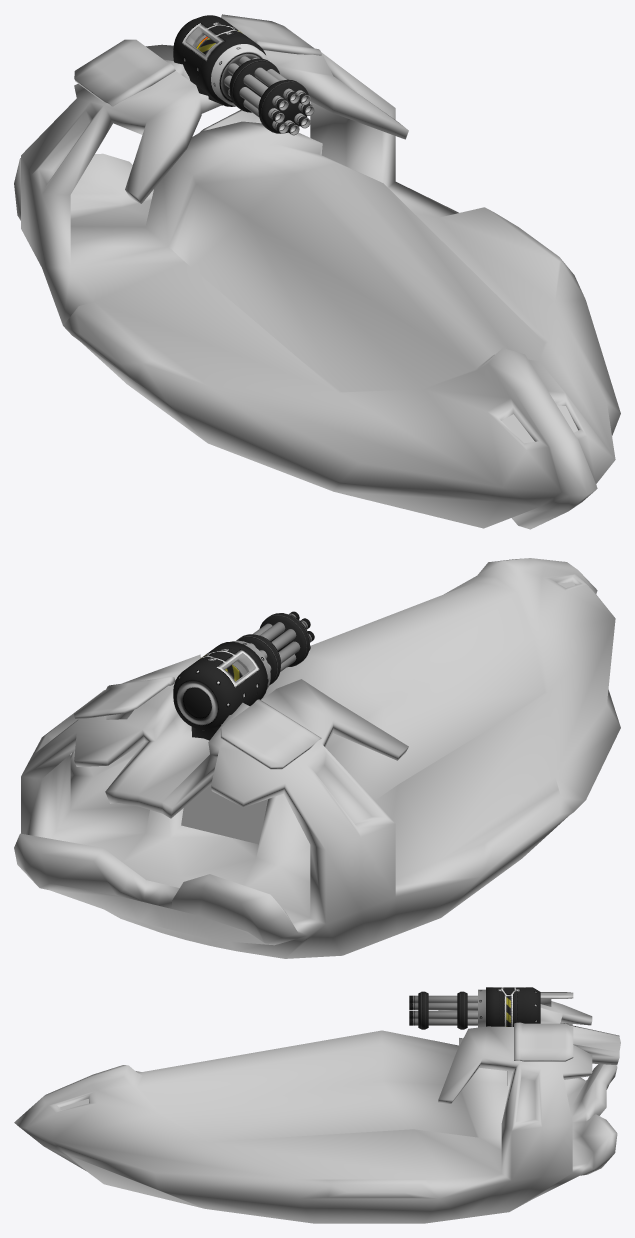
Rendered from Hover9K_v2.0.fbx.
3 renders of one model, top to bottom at view 1: azimuth 30°, elevation 25°; view 2: azimuth 150°, elevation 25°; view 3: azimuth 270°, elevation 25°, orthographic. The views are drawn at different scales.
Parts seen in each view (by area): view 1: _Body, Minigun_MobilePart, Minigun_Base; view 2: _Body, Minigun_Base, Minigun_MobilePart; view 3: _Body, Minigun_Base, Minigun_MobilePart.
Boxes of the visible parts, x1,y1,x2,y2 form: _Body: [14, 14, 620, 529]; Minigun_MobilePart: [194, 35, 314, 135]; Minigun_Base: [173, 15, 268, 106]; _Body: [14, 558, 620, 958]; Minigun_Base: [173, 640, 270, 740]; Minigun_MobilePart: [225, 611, 314, 685]; _Body: [14, 992, 620, 1223]; Minigun_Base: [478, 987, 540, 1027]; Minigun_MobilePart: [409, 991, 477, 1029].
Size of the model in its own units: 4.38 by 2.61 by 7.78.
